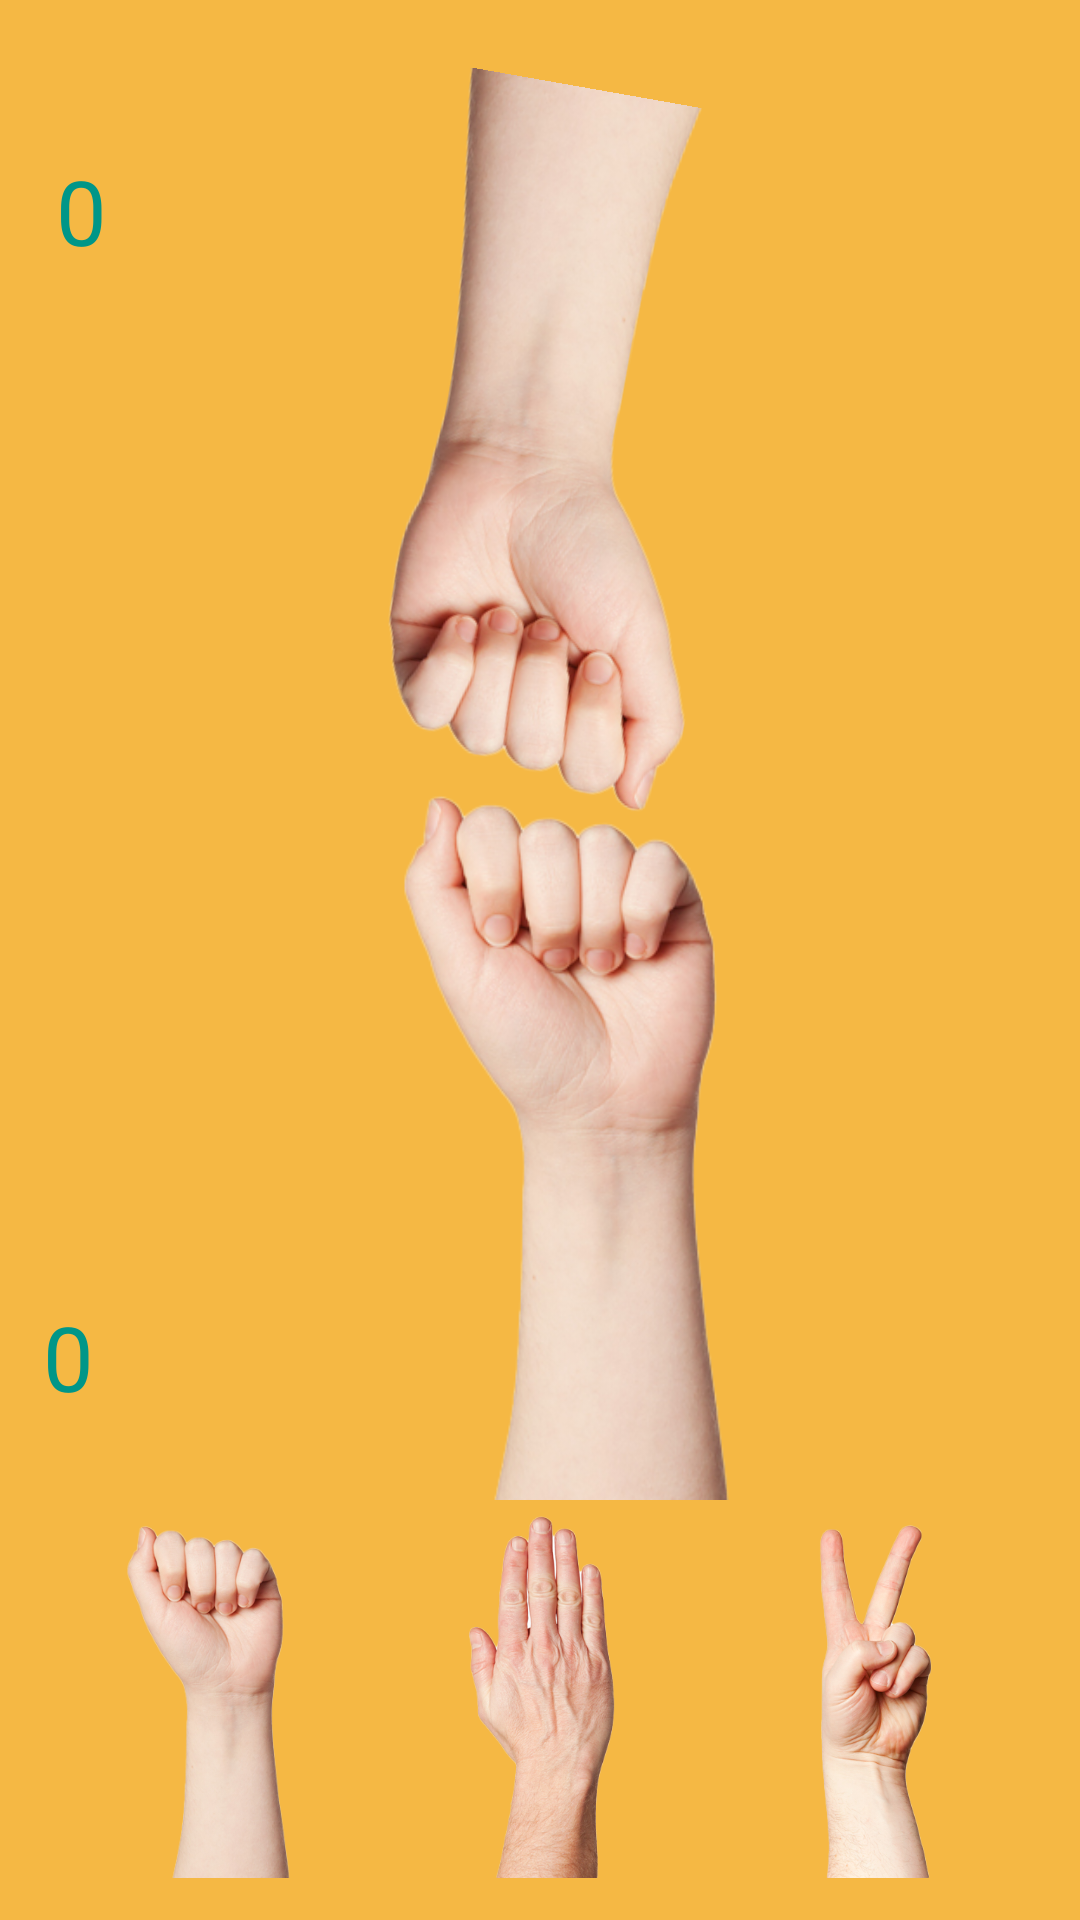

Icons on this 1080 x 1920 Android screen, each with its box as (x1, y1, x2, y2):
scissor: (820, 1525, 931, 1878)
